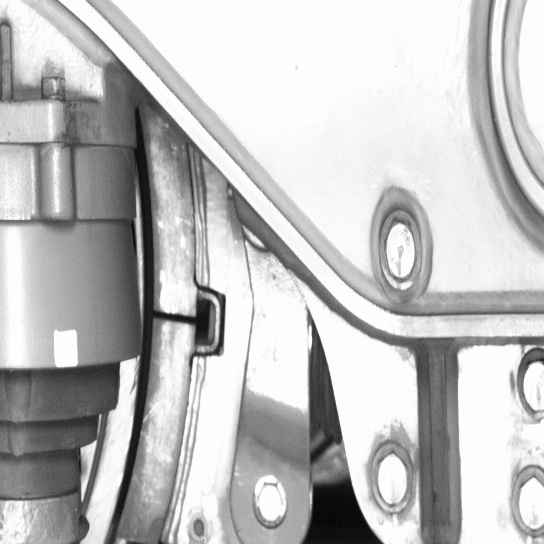KnifeSwitch: (102, 143, 203, 542)
